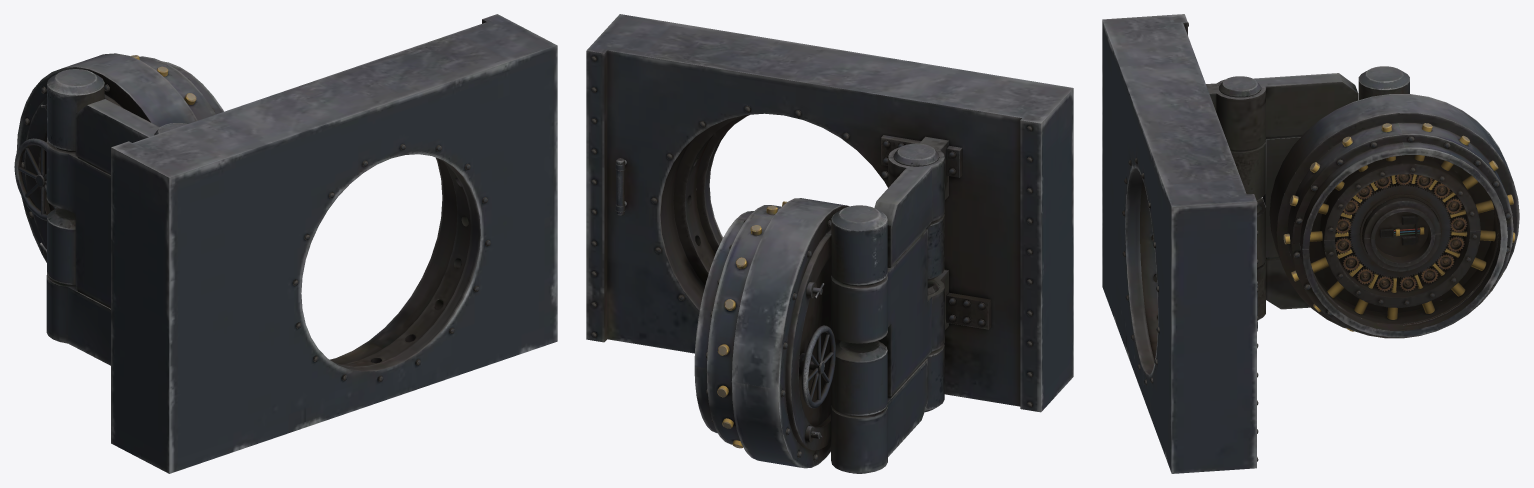
The model's file is vault_door.glb.
The picture shows the model from 3 angles, left to right: view 1: azimuth 30°, elevation 25°; view 2: azimuth 150°, elevation 25°; view 3: azimuth 270°, elevation 25°; orthographic projection. The views are drawn at different scales.
Visible parts, largest first — view 1: Object_3; view 2: Object_3; view 3: Object_3, Object_2.
Part boxes in pixels (bbox=[...]): Object_3: bbox=[14, 14, 557, 473]; Object_3: bbox=[586, 14, 1073, 473]; Object_3: bbox=[1102, 14, 1519, 473]; Object_2: bbox=[1309, 155, 1498, 323].
Bounding box in the file's own units: 4.85 × 3.13 × 4.43.
2 materials, 2 textured.
